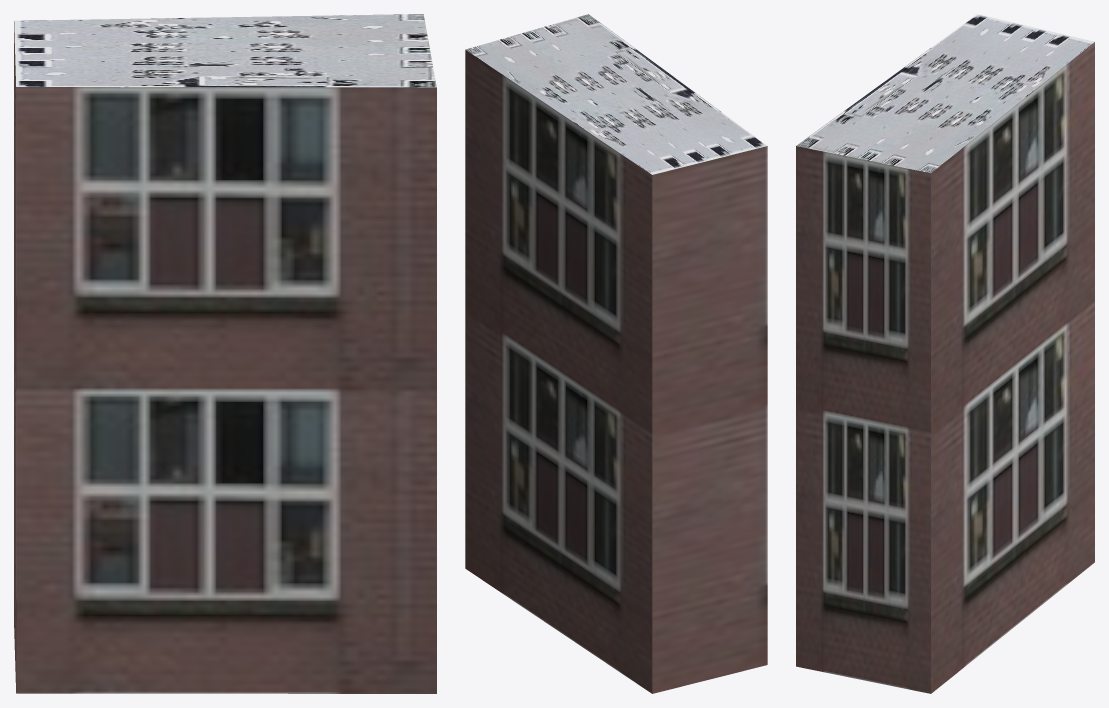
File: ResTex__640.fbx
The picture shows the model from 3 angles, left to right: view 1: azimuth 30°, elevation 25°; view 2: azimuth 150°, elevation 25°; view 3: azimuth 270°, elevation 25°; orthographic projection. The views are drawn at different scales.
Visible parts, largest first — view 1: CityEngineMaterial_12_m, CityEngineMaterial_8_m; view 2: CityEngineMaterial_12_m, CityEngineMaterial_8_m; view 3: CityEngineMaterial_12_m, CityEngineMaterial_8_m.
Boxes of the visible parts, x1,y1,x2,y2 form: CityEngineMaterial_12_m: [14, 22, 436, 693]; CityEngineMaterial_8_m: [14, 14, 436, 87]; CityEngineMaterial_12_m: [465, 50, 767, 693]; CityEngineMaterial_8_m: [465, 14, 767, 174]; CityEngineMaterial_12_m: [796, 42, 1094, 693]; CityEngineMaterial_8_m: [796, 14, 1094, 173].
Size of the model in its own units: 3.94 by 6 by 3.12.
2 materials, 2 textured.
